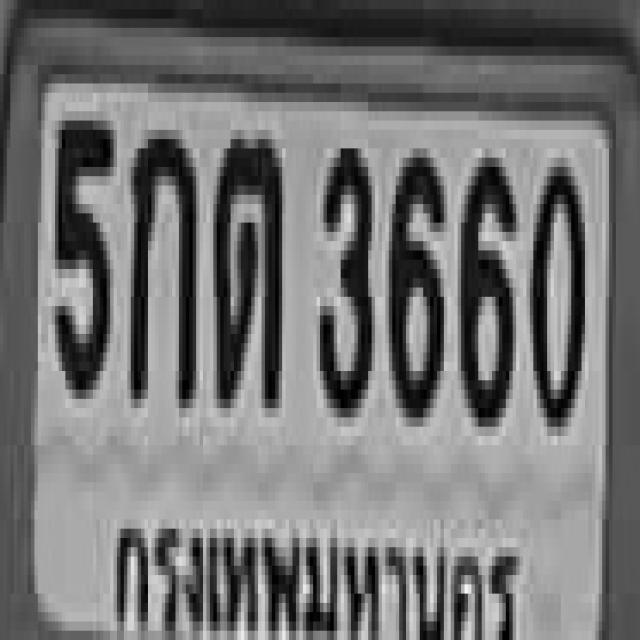0: (526, 148, 582, 418)
10GorGai: (127, 120, 193, 399)
3: (317, 139, 368, 408)
30TorTao: (210, 130, 279, 399)
5: (52, 111, 110, 390)
6: (458, 148, 512, 418), (386, 139, 440, 408)
Bangkok: (104, 473, 526, 640)
